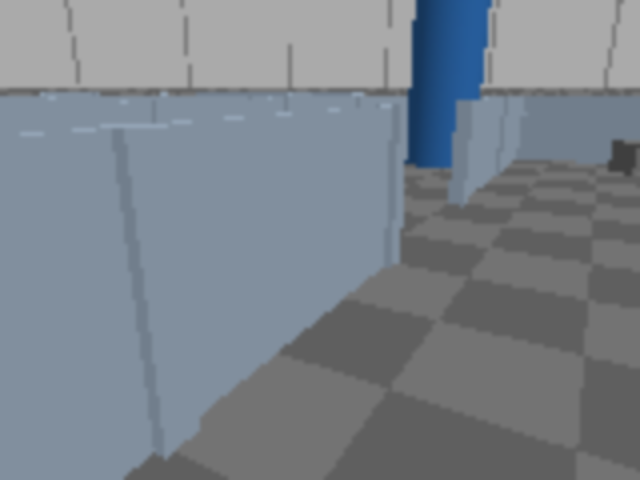obstacle: (607, 140, 638, 175)
